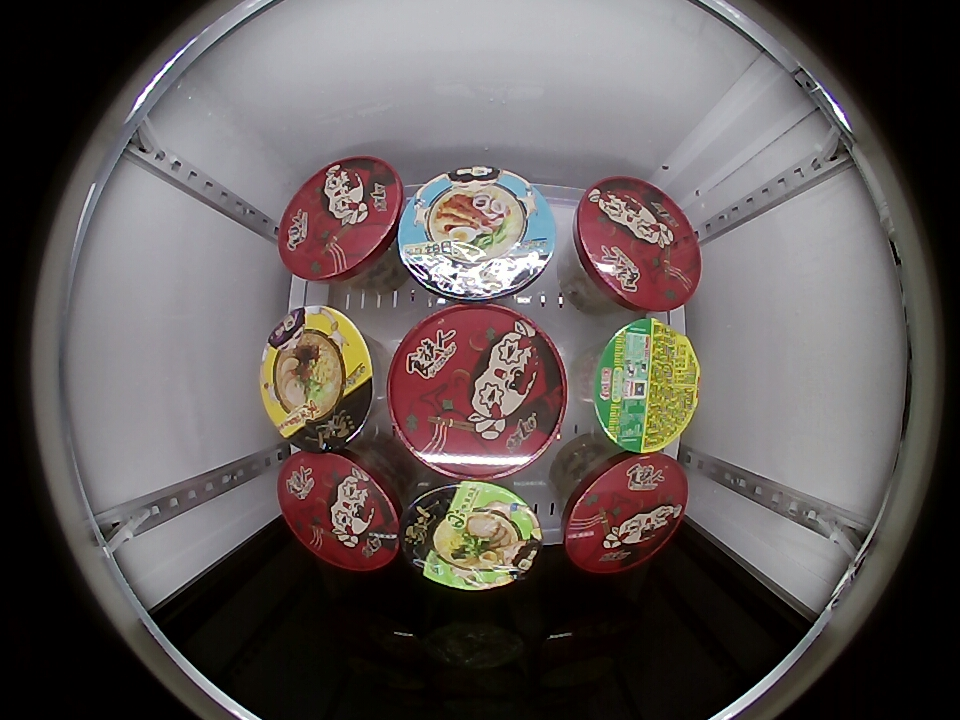heweidao2: (588, 317, 701, 454)
suanlafen: (386, 304, 570, 479), (571, 177, 702, 312), (278, 157, 405, 283), (560, 452, 689, 573), (277, 451, 406, 570)
tangdaren: (401, 479, 544, 591)
tangdaren2: (260, 306, 378, 451)
tangdaren3: (397, 166, 556, 302)
